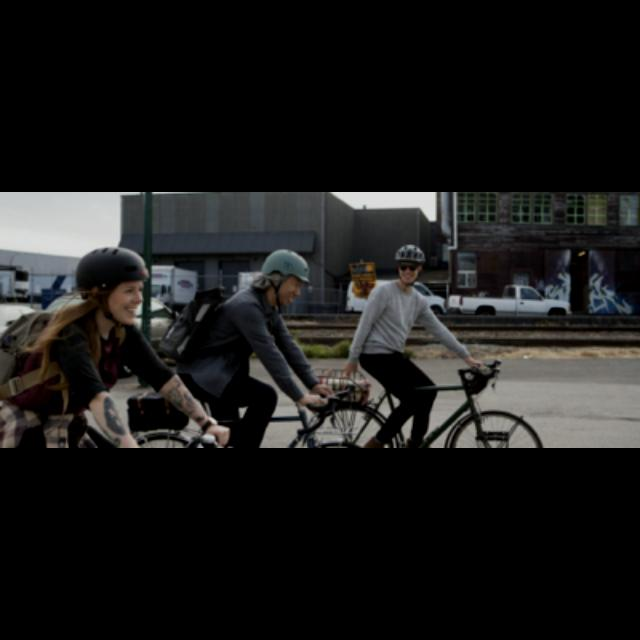With Helmet: (71, 244, 149, 326), (261, 242, 309, 308), (392, 240, 424, 288)
